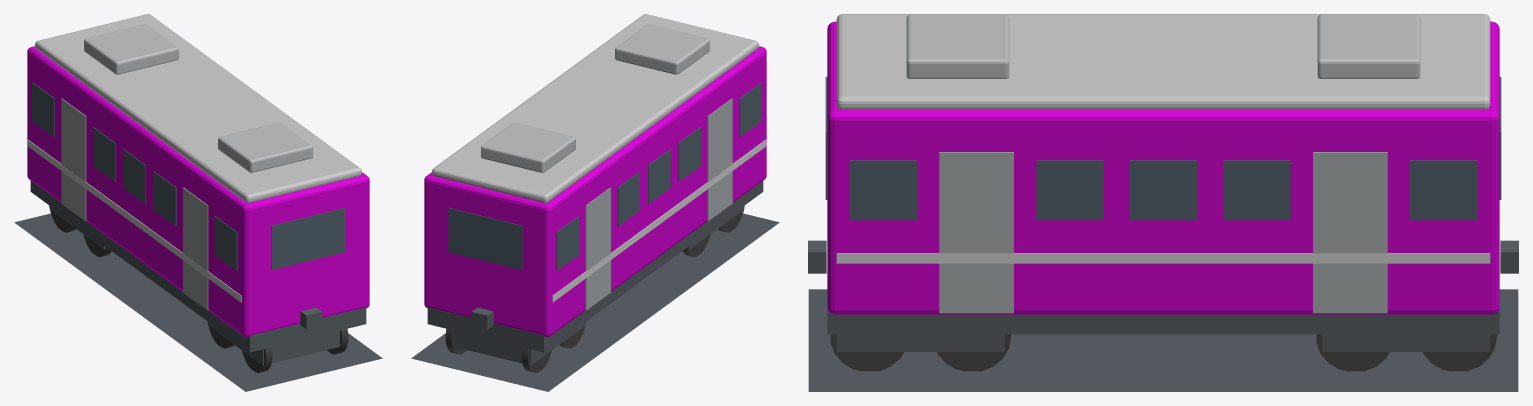
File: kereta.glb
3 renders of one model, left to right at view 1: azimuth 30°, elevation 25°; view 2: azimuth 150°, elevation 25°; view 3: azimuth 270°, elevation 25°, orthographic. The views are drawn at different scales.
Parts seen in each view (by area): view 1: main; view 2: main; view 3: main.
Boxes of the visible parts, left/top/right/bottom form: main: left=14, top=14, right=382, bottom=391; main: left=411, top=14, right=779, bottom=391; main: left=808, top=14, right=1518, bottom=391.
Size of the model in its own units: 2.6 by 3.6 by 7.61.
